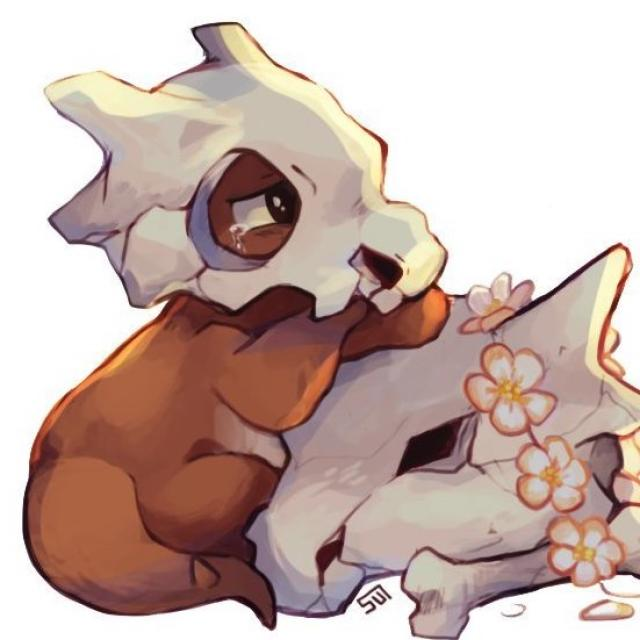Cubone: (32, 24, 450, 615)
